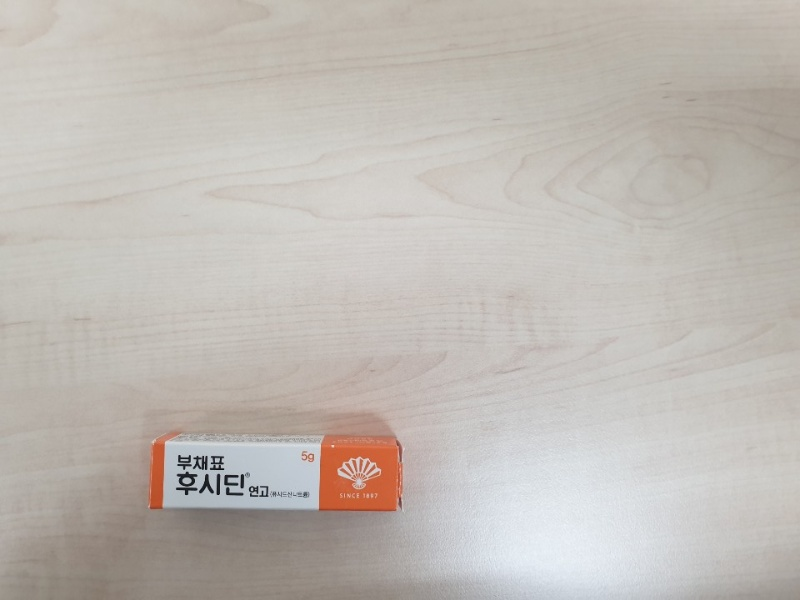fucidin: (150, 431, 403, 514)
